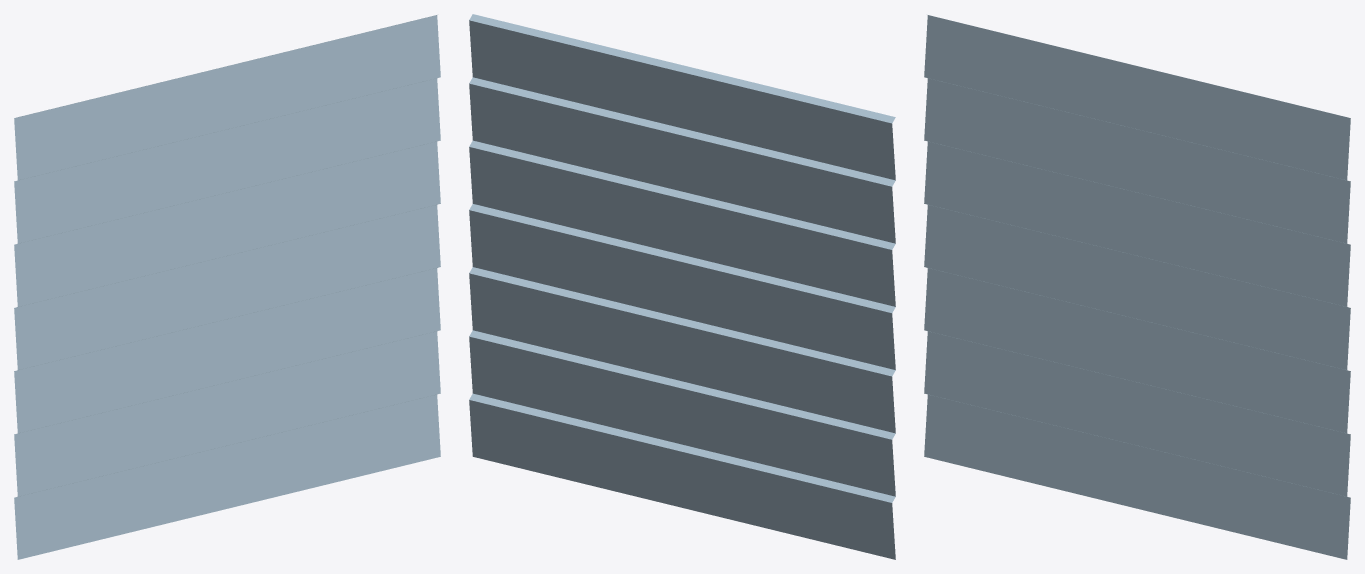
File: HouseWall.fbx
3 renders of one model, left to right at view 1: azimuth 30°, elevation 25°; view 2: azimuth 150°, elevation 25°; view 3: azimuth 330°, elevation 25°, orthographic.
Parts seen in each view (by area): view 1: Wall_01; view 2: Wall_01; view 3: Wall_01.
Boxes of the visible parts, box(x1,y1,x2,y2) form: Wall_01: box(14, 15, 440, 559); Wall_01: box(469, 14, 895, 559); Wall_01: box(924, 15, 1350, 559).
Size of the model in its own units: 200 by 200 by 2.99.
